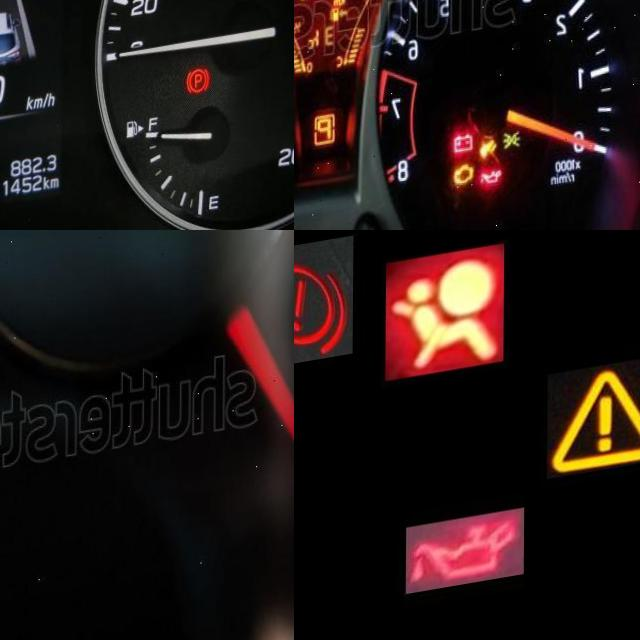Central Warning lamp: (547, 369, 640, 490)
